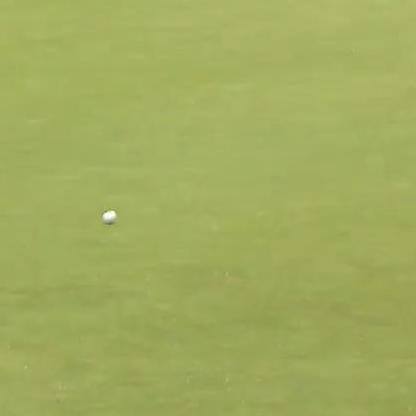golfball: (99, 207, 116, 224)
